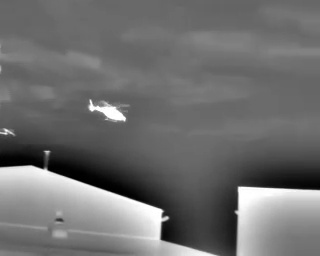HELICOPTER: (85, 93, 135, 130)
